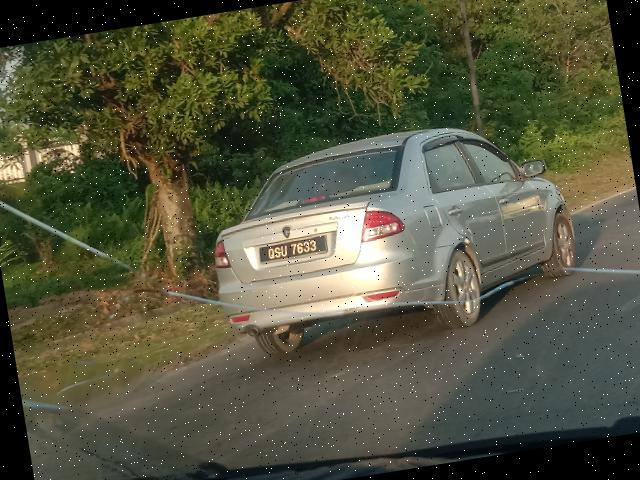License_Plate: (259, 237, 329, 267)
car: (191, 100, 595, 369)
